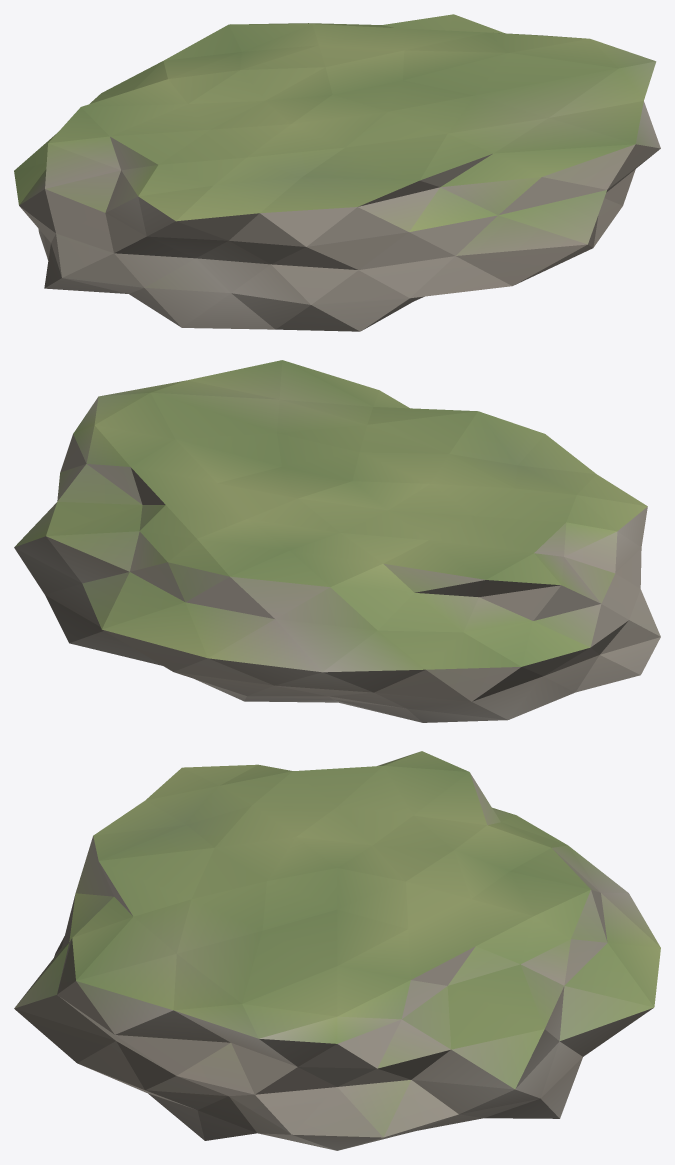
Rendered from geo_slab_streamside_c.glb.
3 views of the same model, one above another, from view 1: azimuth 30°, elevation 25°; view 2: azimuth 150°, elevation 25°; view 3: azimuth 270°, elevation 25° (orthographic). The views are drawn at different scales.
Parts seen in each view (by area): view 1: geo_slab_streamside_c; view 2: geo_slab_streamside_c; view 3: geo_slab_streamside_c.
Boxes of the visible parts, <box> form: geo_slab_streamside_c: <box>14,14,660,331</box>; geo_slab_streamside_c: <box>14,360,660,722</box>; geo_slab_streamside_c: <box>14,751,660,1150</box>.
Bounding box in the file's own units: 2.55 × 0.7816 × 2.2.
